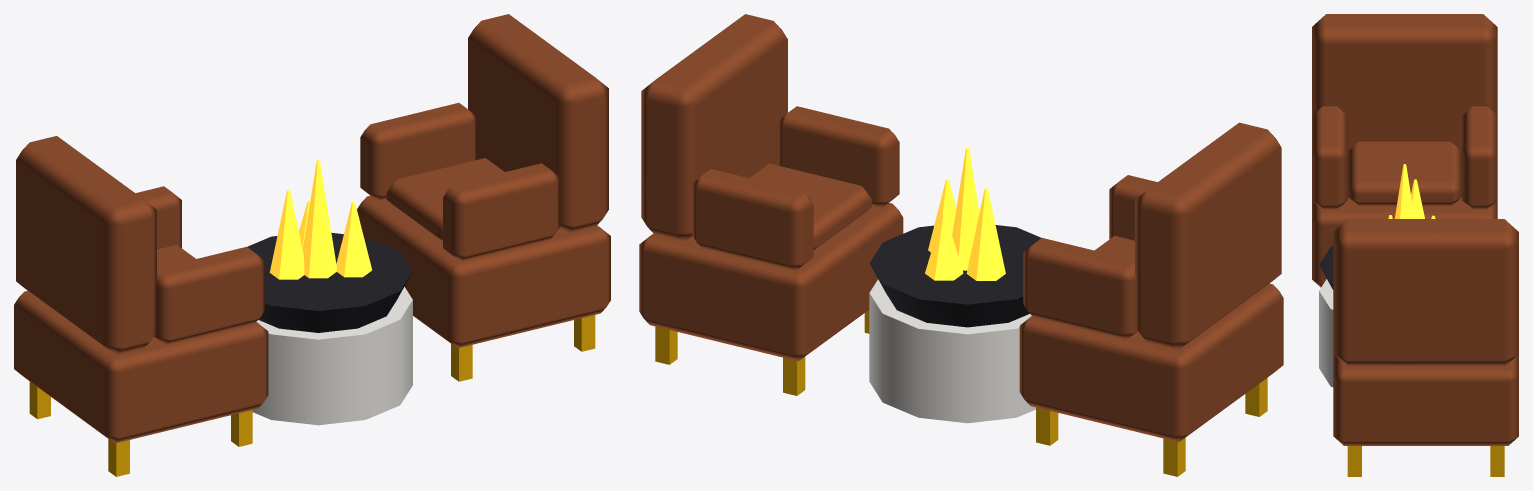
File: station_buffer_ausstattung_3_3.glb
The picture shows the model from 3 angles, left to right: view 1: azimuth 30°, elevation 25°; view 2: azimuth 150°, elevation 25°; view 3: azimuth 270°, elevation 25°; orthographic projection. The views are drawn at different scales.
Parts seen in each view (by area): view 1: station_buffer_ausstattung_3_3; view 2: station_buffer_ausstattung_3_3; view 3: station_buffer_ausstattung_3_3.
Part boxes in pixels (bbox=[...]): station_buffer_ausstattung_3_3: bbox=[14, 14, 610, 476]; station_buffer_ausstattung_3_3: bbox=[639, 14, 1283, 476]; station_buffer_ausstattung_3_3: bbox=[1312, 14, 1518, 476].
Size of the model in its own units: 1.52 by 0.76 by 0.58.
